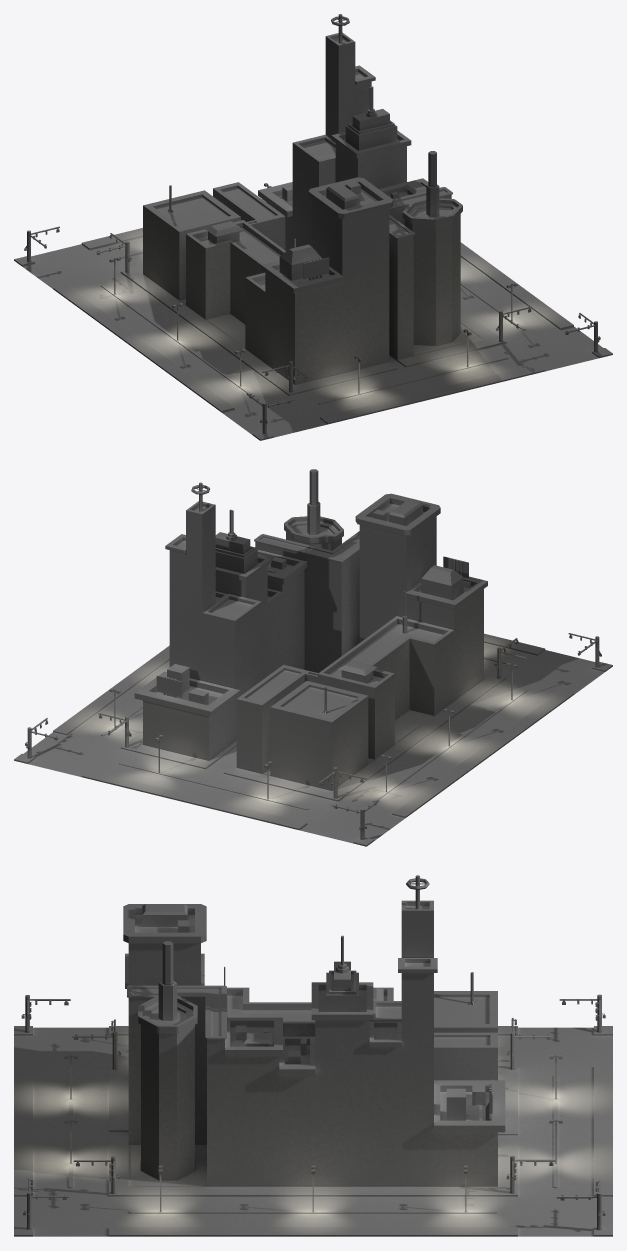
File: Alley.obj
3 renders of one model, top to bottom at view 1: azimuth 30°, elevation 25°; view 2: azimuth 150°, elevation 25°; view 3: azimuth 270°, elevation 25°, orthographic. The views are drawn at different scales.
Visible parts, largest first — view 1: City_Cube.003, roads, sidewalk, roofs, building4wall3, building4wall2, building1wall2, building3wall3, building3ledge, building3wall6, trafficPoles, building3wall2 (+5 smaller); view 2: City_Cube.003, roads, sidewalk, roofs, building1wall1, building4wall2, building3ledge, building1wall2, building3wall5, trafficPoles, building3wall6, building3wall2 (+11 smaller); view 3: City_Cube.003, roads, sidewalk, roofs, trafficPoles, building2wall1, building3ledge, building1ledge, streetlights, building2ledge, antennaLight.
Boxes of the visible parts, <box> form: City_Cube.003: <box>258,32,462,373</box>; roads: <box>22,237,603,437</box>; sidewalk: <box>14,199,612,440</box>; roofs: <box>155,38,456,288</box>; building4wall3: <box>295,281,342,384</box>; building4wall2: <box>265,273,294,384</box>; building1wall2: <box>143,208,179,299</box>; building3wall3: <box>205,247,230,319</box>; building3ledge: <box>186,220,286,296</box>; building3wall6: <box>245,282,265,362</box>; trafficPoles: <box>27,226,597,433</box>; building3wall2: <box>186,239,205,319</box>; City_Cube.003: <box>134,469,440,760</box>; roads: <box>23,642,604,843</box>; sidewalk: <box>14,633,612,846</box>; roofs: <box>155,503,472,717</box>; building1wall1: <box>270,709,331,790</box>; building4wall2: <box>454,589,483,700</box>; building3ledge: <box>317,616,454,692</box>; building1wall2: <box>332,698,368,790</box>; building3wall5: <box>409,643,434,715</box>; trafficPoles: <box>27,633,599,839</box>; building3wall6: <box>434,635,454,715</box>; building3wall2: <box>375,678,394,759</box>; City_Cube.003: <box>123,900,505,1186</box>; roads: <box>14,1027,612,1236</box>; sidewalk: <box>14,1026,612,1236</box>; roofs: <box>132,906,490,1120</box>; trafficPoles: <box>25,994,601,1229</box>; building2wall1: <box>434,1050,497,1080</box>; building3ledge: <box>227,987,393,1027</box>; building1ledge: <box>434,991,497,1030</box>; streetlights: <box>64,1055,562,1211</box>; building2ledge: <box>434,1032,497,1050</box>; antennaLight: <box>224,878,475,1005</box>.
Size of the model in its own units: 12.97 by 8.6 by 15.7.
1 material, 1 textured.
